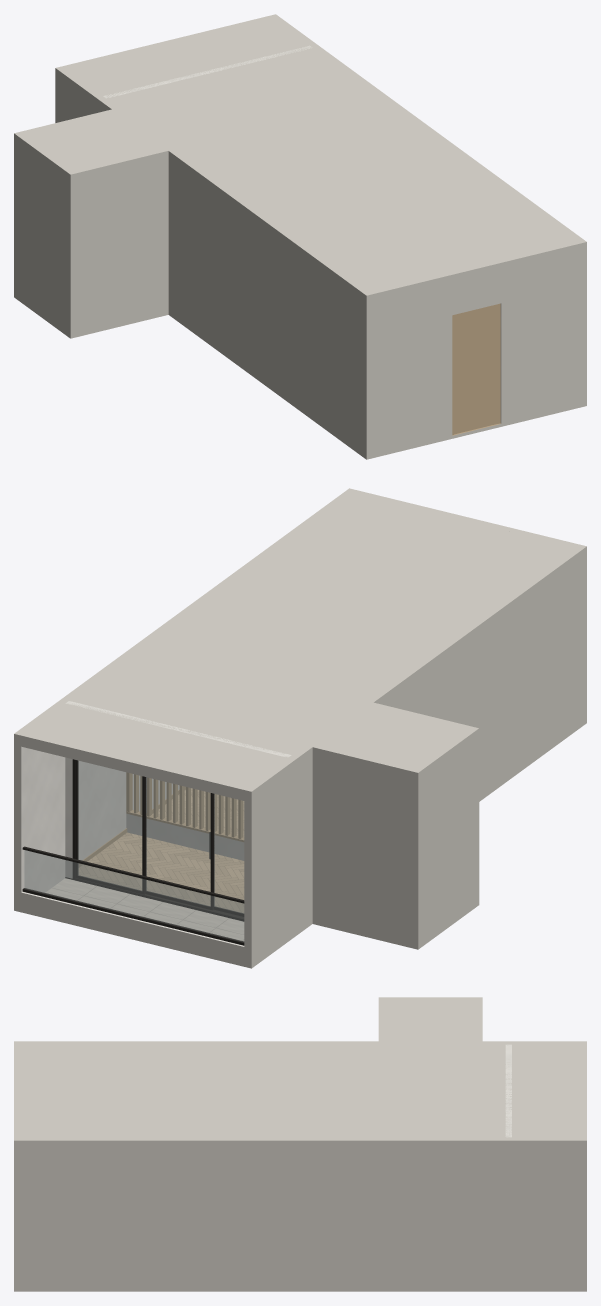
The model's file is 00-apartment-shell.glb.
The picture shows the model from 3 angles, top to bottom: view 1: azimuth 30°, elevation 25°; view 2: azimuth 150°, elevation 25°; view 3: azimuth 270°, elevation 25°; orthographic projection. The views are drawn at different scales.
Parts seen in each view (by area): view 1: Apartment_Shell; view 2: Apartment_Shell; view 3: Apartment_Shell.
Boxes of the visible parts, x1,y1,x2,y2 form: Apartment_Shell: (14,14,586,459); Apartment_Shell: (14,488,586,968); Apartment_Shell: (14,997,586,1291).
Bounding box in the file's own units: 6.5 × 3.2 × 11.
8 materials, 3 textured.
